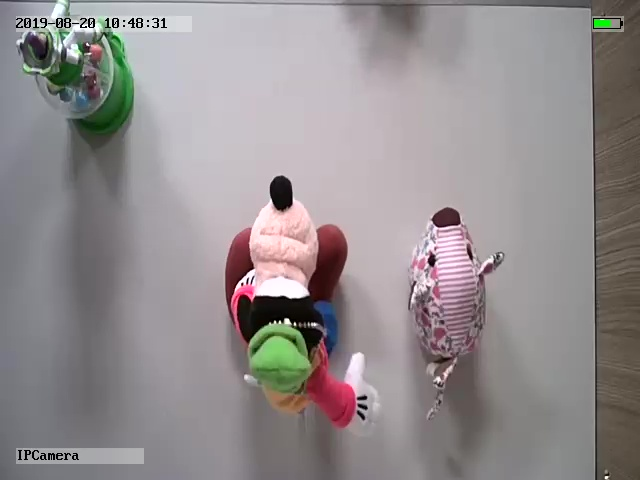buzz: (14, 1, 138, 130)
goofy: (222, 173, 382, 437)
pig: (405, 205, 505, 422)
